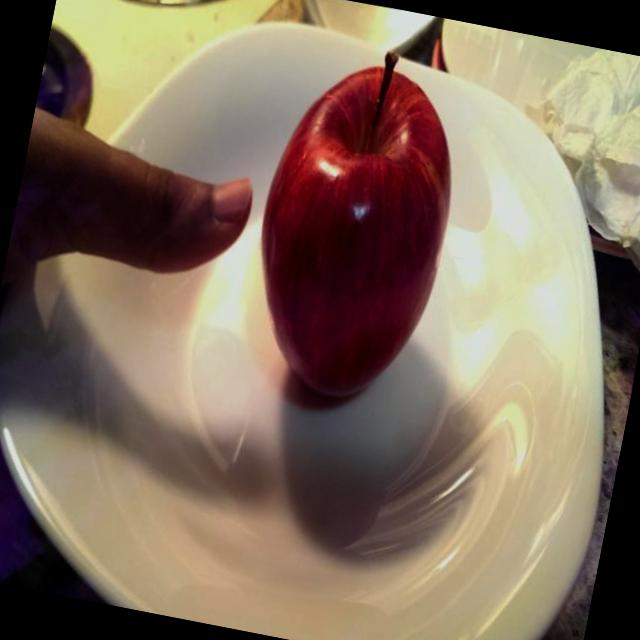Apple: (224, 22, 490, 424)
Finger: (108, 146, 264, 302)
